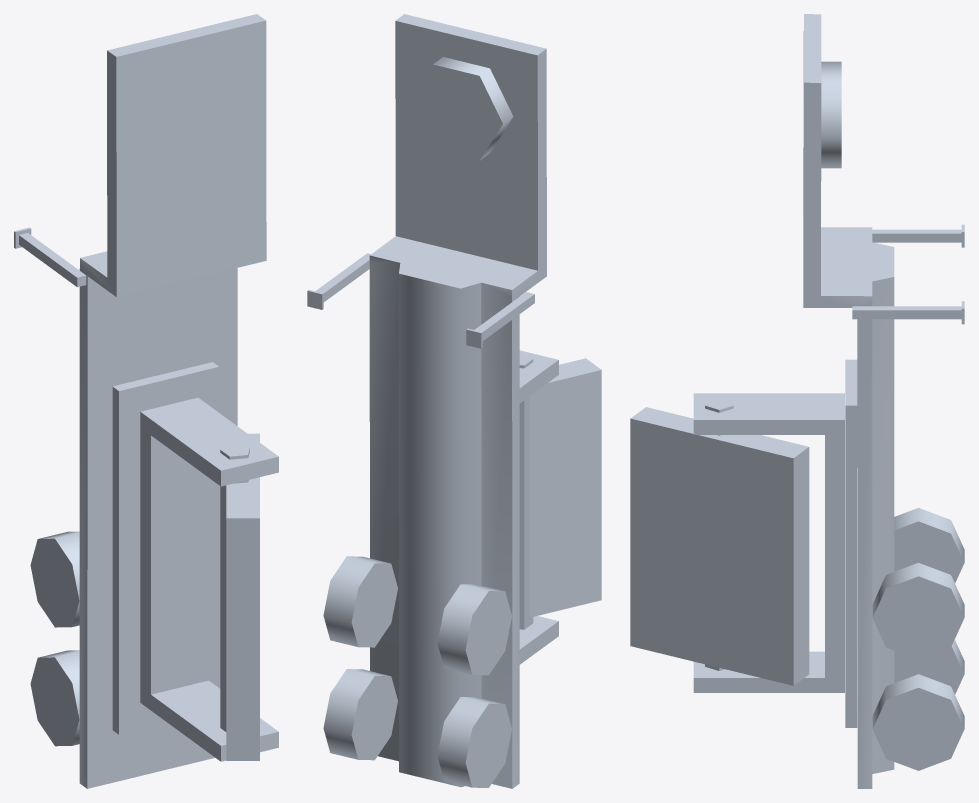
File: thaad.glb
3 views of the same model, side by side, from view 1: azimuth 30°, elevation 25°; view 2: azimuth 150°, elevation 25°; view 3: azimuth 270°, elevation 25° (orthographic). The views are drawn at different scales.
Visible parts, largest first — view 1: db_THAAD_pl1_Geometry_0.001; view 2: db_THAAD_pl1_Geometry_0.001; view 3: db_THAAD_pl1_Geometry_0.001.
Part boxes in pixels (left/top/right/bottom): db_THAAD_pl1_Geometry_0.001: left=14, top=14, right=278, bottom=788; db_THAAD_pl1_Geometry_0.001: left=307, top=14, right=601, bottom=788; db_THAAD_pl1_Geometry_0.001: left=630, top=14, right=964, bottom=788.
Size of the model in its own units: 3.65 by 14.34 by 6.15.
